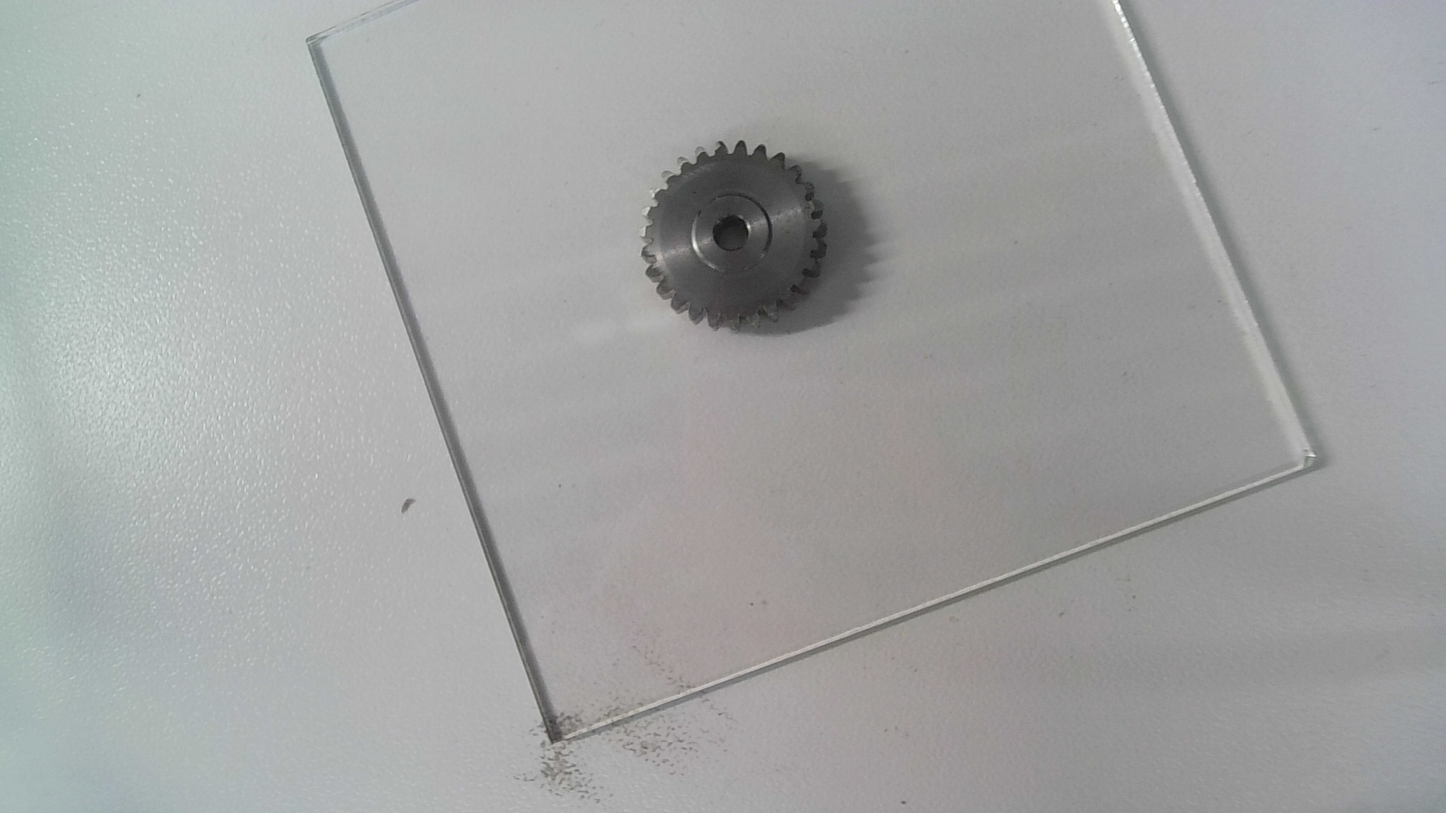gear: (635, 136, 834, 336)
